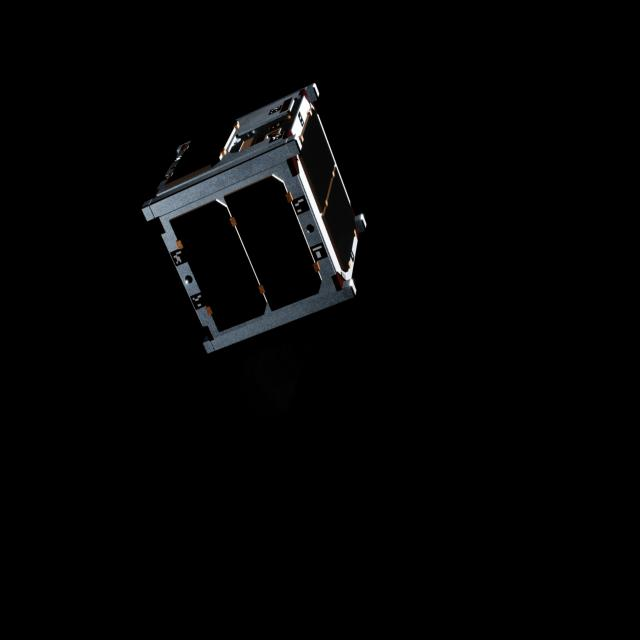satellite: (142, 70, 368, 360)
